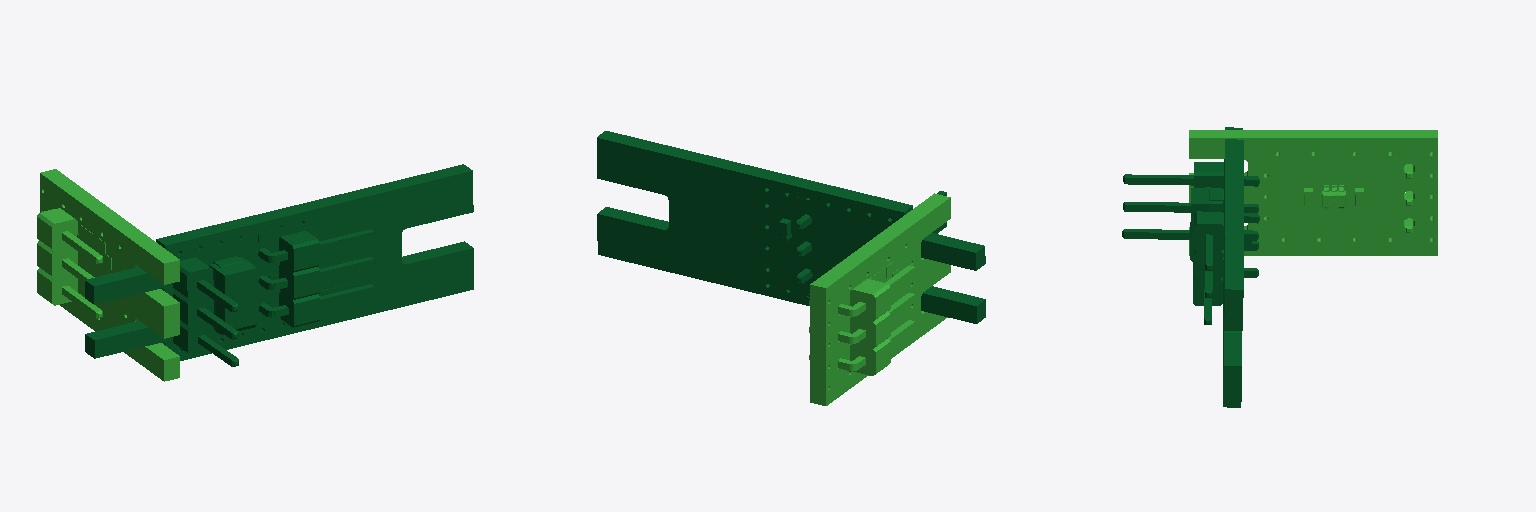
The model's file is servo_sensor_assy.obj.
The picture shows the model from 3 angles: view 1: azimuth 30°, elevation 25°; view 2: azimuth 150°, elevation 25°; view 3: azimuth 270°, elevation 25°; orthographic projection.
Visible parts, largest first — view 1: obj_0; view 2: obj_0; view 3: obj_0.
Part boxes in pixels (x1,y1,x2,y2): obj_0: (37, 164, 473, 381); obj_0: (597, 131, 985, 405); obj_0: (1122, 127, 1437, 407).
Size of the model in its own units: 37 by 11.03 by 26.68.